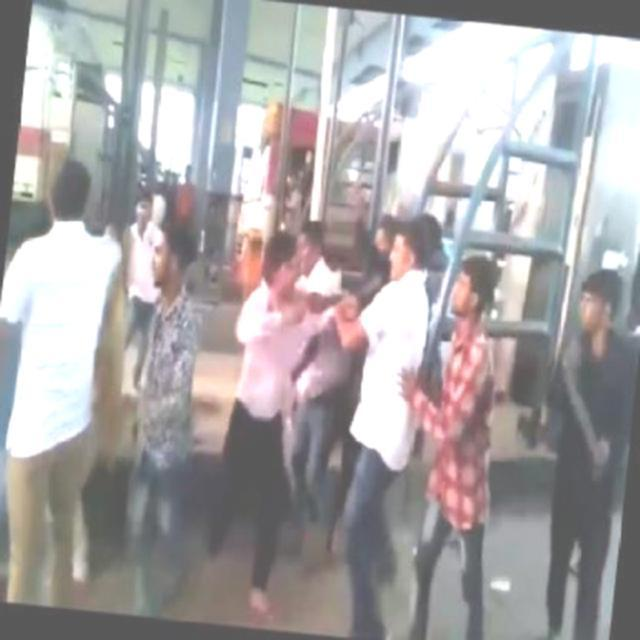fight: (215, 197, 440, 472)
